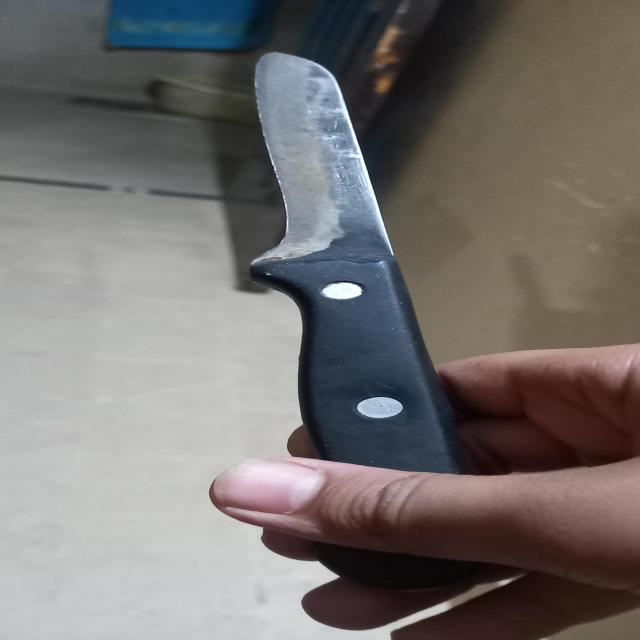weapon: (255, 52, 480, 475)
